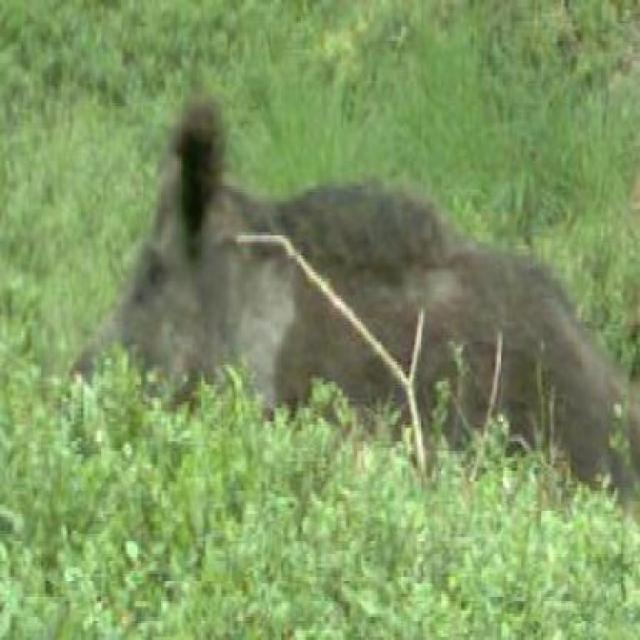pig: (77, 66, 638, 527)
